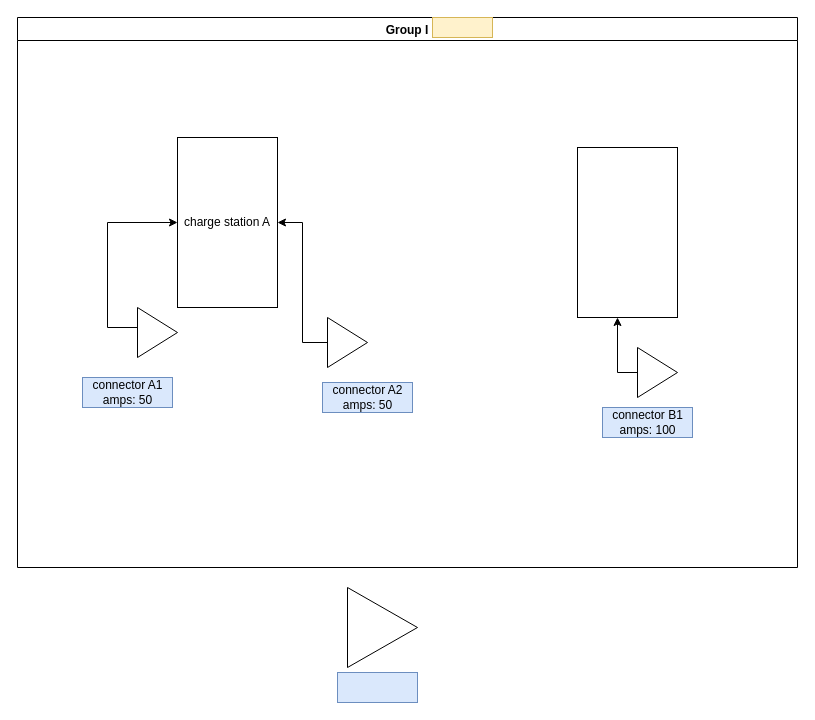
Image size: 815x720. Some labels were removed from this diagram. The centre of each missing label's shape, as x and y in pixels:
"cap: 200" belongs at (462,27).
"charge station B" belongs at (627,232).
"connector ? amps: 100" belongs at (377,687).
